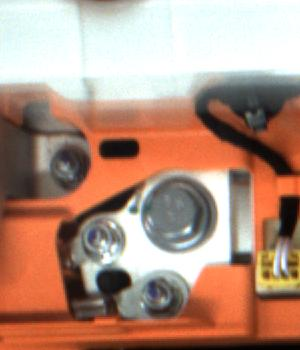nut_b: (135, 175, 219, 255)
screw_s: (46, 145, 95, 184), (79, 223, 125, 263), (134, 277, 180, 312)
